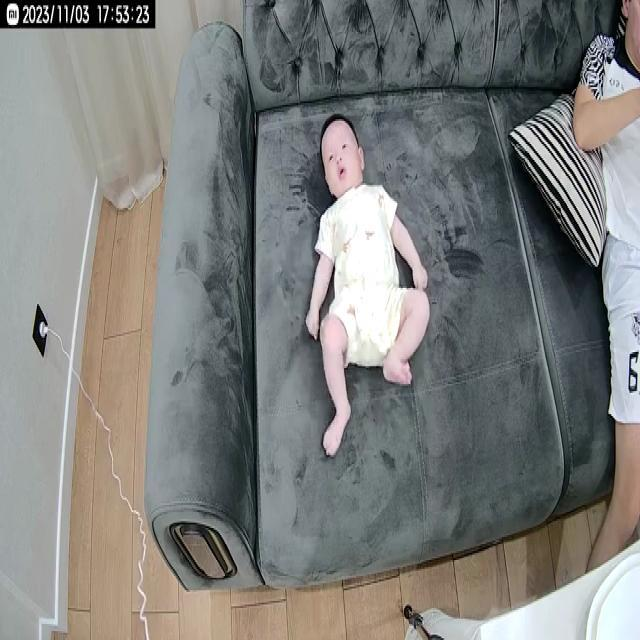baby: (306, 110, 430, 462)
